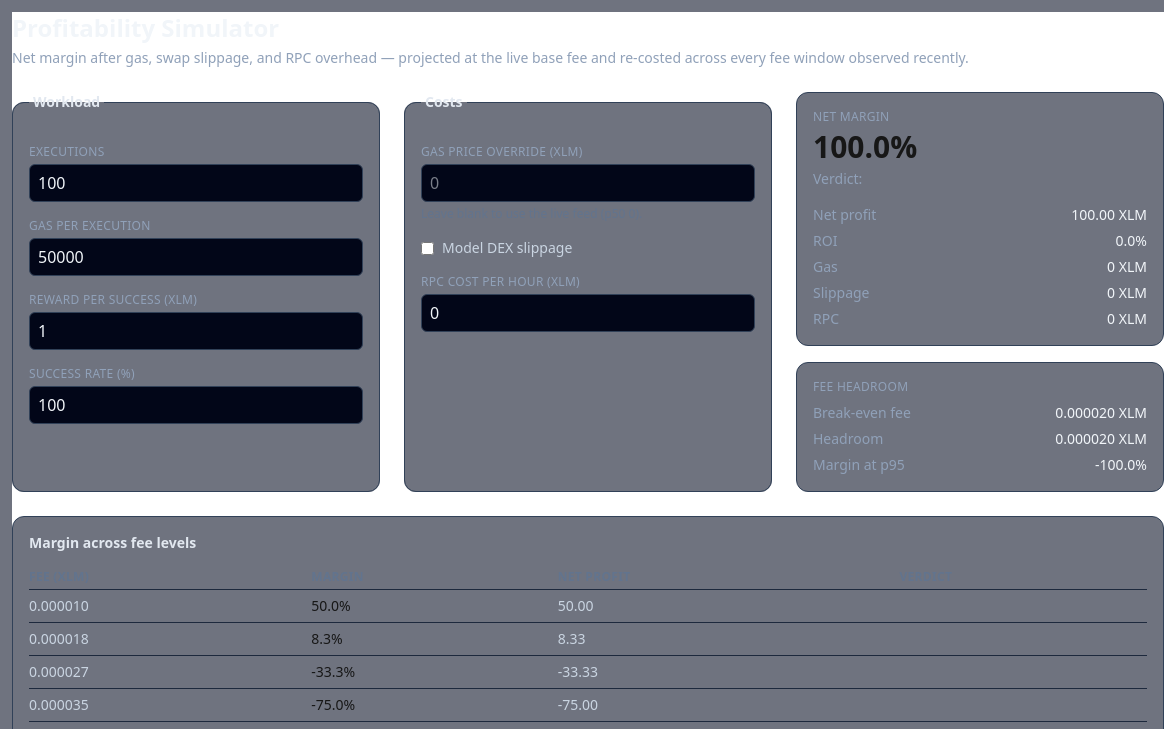
Test case: ProfitabilityCalculator › reveals the retry-rate field only once RPC costs are set
Expected: the field labelled "retry rate" is not shown
Replace the text in the number field labelled "RPC cost per hour (XLM)" with "2": (588, 313) top-left (421, 294), bottom-right (755, 332)
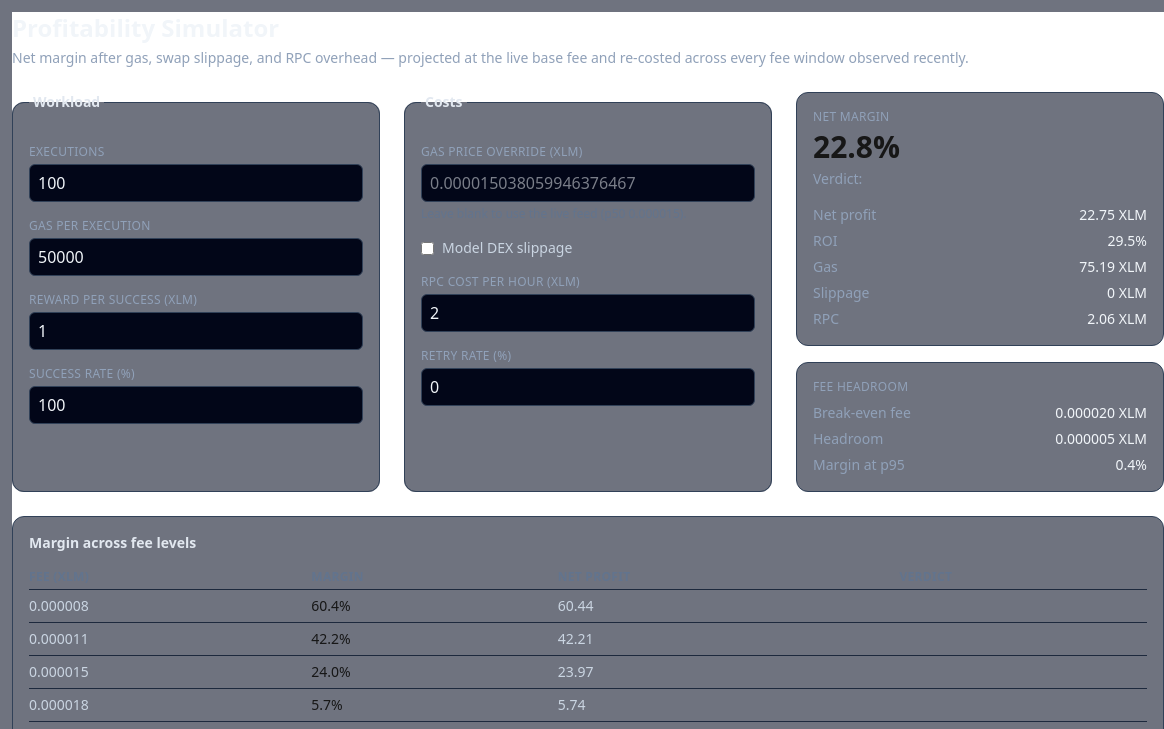
Now the number field labelled "Retry rate (%)" is shown, box top-left (421, 368), bottom-right (755, 406)
